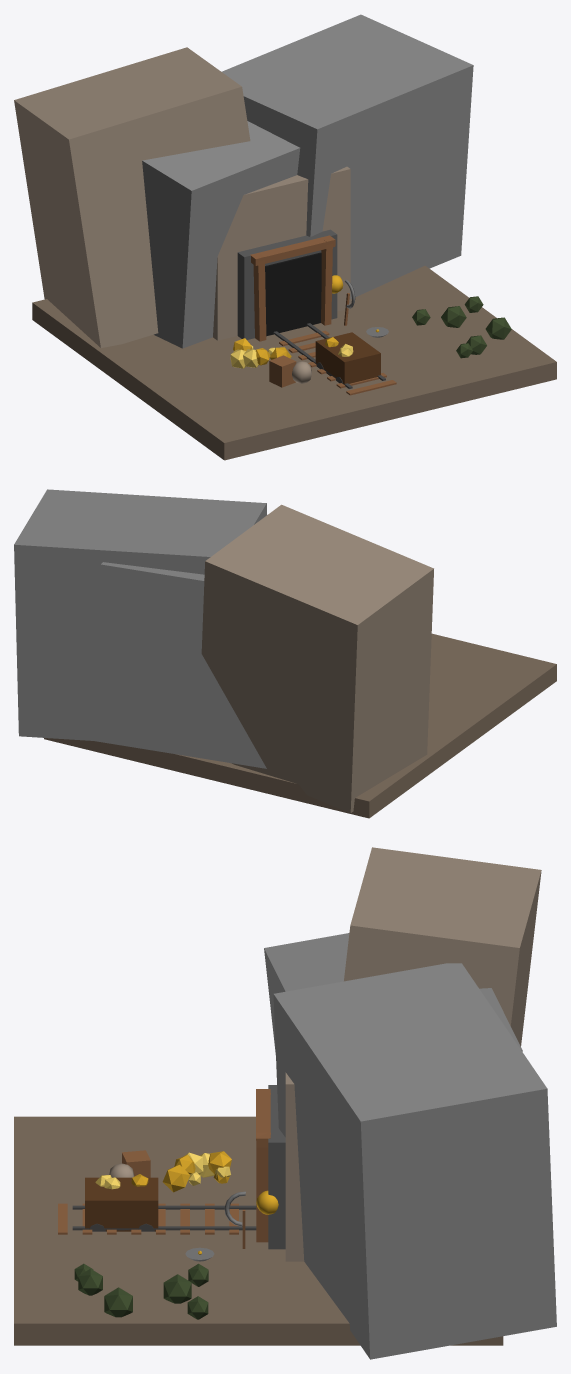
Rendered from gold_mine.glb.
3 views of the same model, one above another, from view 1: azimuth 30°, elevation 25°; view 2: azimuth 150°, elevation 25°; view 3: azimuth 270°, elevation 25° (orthographic). The views are drawn at different scales.
Parts seen in each view (by area): view 1: MountainPeakRight, Ground, MountainPeakLeft, MountainBase, MountainFront, ShaftOpening, EntranceFrame, CartBody, BeamTop, BeamLeft, BeamRight, Crate; view 2: MountainPeakLeft, MountainPeakRight, MountainBase, Ground; view 3: MountainPeakRight, Ground, MountainPeakLeft, MountainBase, CartBody, MountainFront, EntranceFrame, Shrub (×2), BeamRight, BeamTop.
Boxes of the visible parts, x1,y1,x2,y2 form: MountainPeakRight: (221,14,473,299); Ground: (32,265,556,460); MountainPeakLeft: (14,47,250,347); MountainBase: (142,121,300,348); MountainFront: (213,166,350,340); ShaftOpening: (265,252,321,336); EntranceFrame: (237,229,337,339); CartBody: (315,332,380,384); BeamTop: (250,235,335,265); BeamLeft: (253,253,266,341); BeamRight: (321,238,332,325); Crate: (269,355,296,387); MountainPeakLeft: (201,504,433,813); MountainPeakRight: (14,489,266,740); MountainBase: (91,562,266,768); Ground: (44,633,556,818); MountainPeakRight: (273,963,556,1359); Ground: (14,1116,503,1345); MountainPeakLeft: (344,847,541,1046); MountainBase: (264,933,522,1054); CartBody: (85,1177,158,1231); MountainFront: (285,1072,304,1261); EntranceFrame: (268,1085,285,1249); Shrub (×2): (104,1274,191,1317); BeamRight: (256,1132,270,1242); BeamTop: (256,1089,270,1147).
Bounding box in the file's own units: 12.03 × 6.91 × 11.1.
